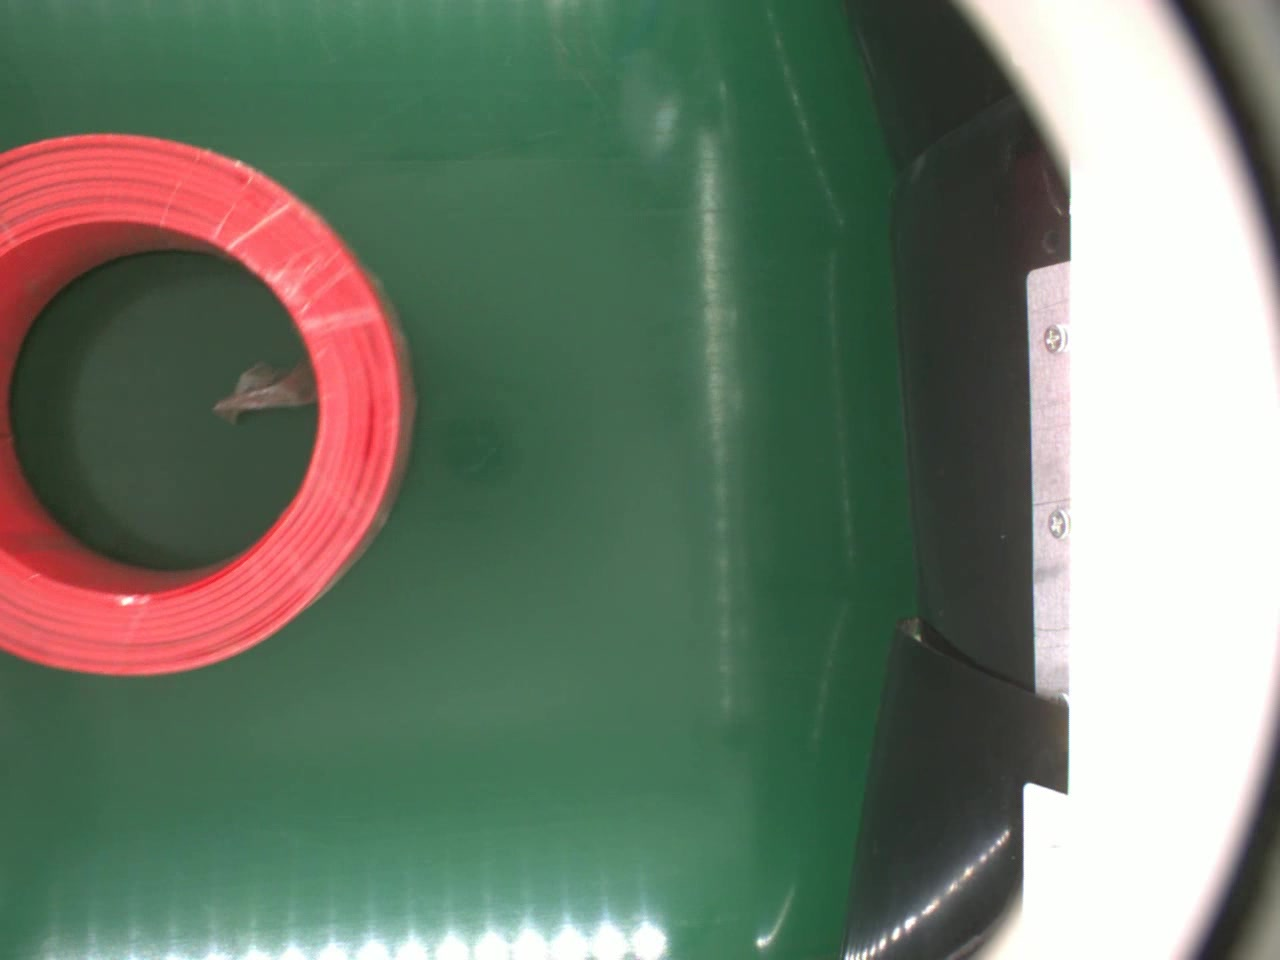red: (0, 128, 416, 676)
